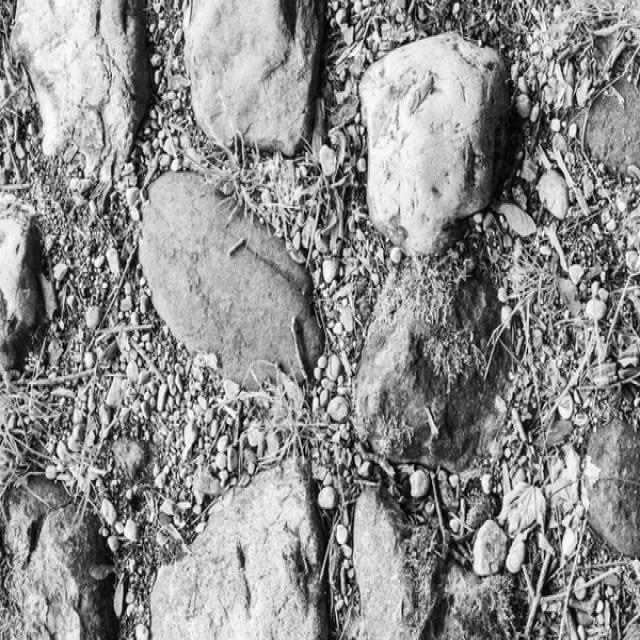Stone: (139, 171, 324, 388), (359, 32, 510, 254), (150, 462, 328, 640), (356, 278, 507, 473), (354, 488, 526, 640), (11, 0, 149, 181), (184, 0, 324, 154), (22, 505, 118, 640), (0, 195, 42, 369)
